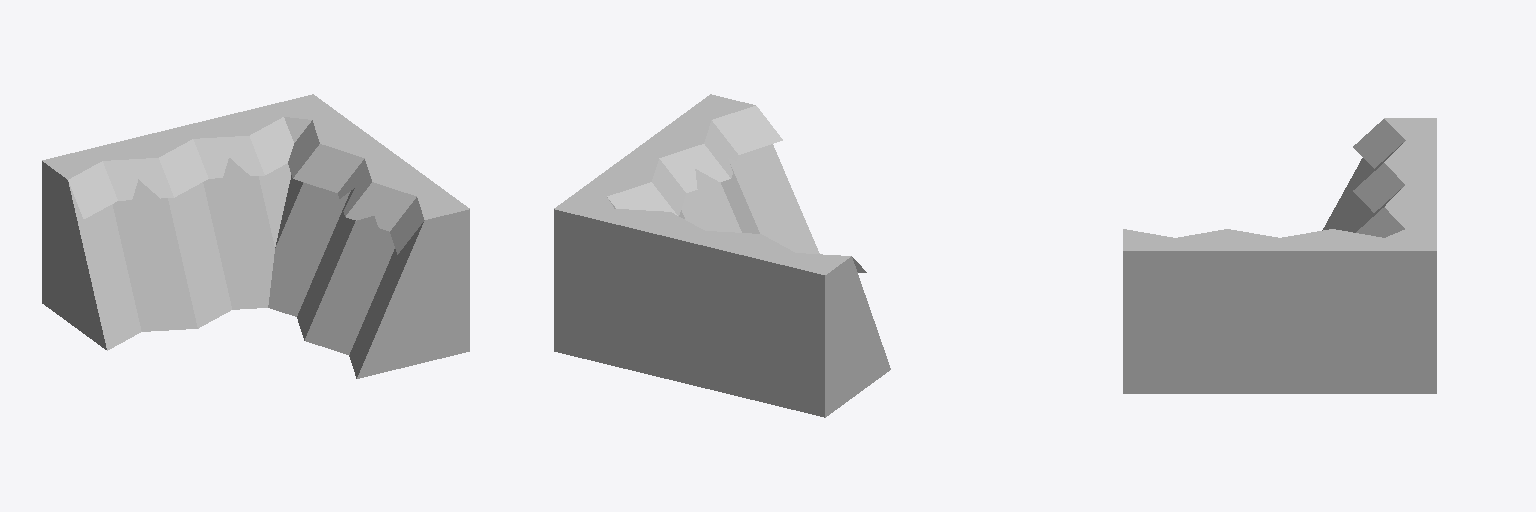
Rendered from cliff_halfCornerInner_rock.obj.
3 views of the same model, side by side, from view 1: azimuth 30°, elevation 25°; view 2: azimuth 150°, elevation 25°; view 3: azimuth 270°, elevation 25° (orthographic).
Parts seen in each view (by area): view 1: cliff_halfCornerInner_rock; view 2: cliff_halfCornerInner_rock; view 3: cliff_halfCornerInner_rock.
Boxes of the visible parts, box(x1,y1,x2,y2) form: cliff_halfCornerInner_rock: box(42, 94, 469, 378); cliff_halfCornerInner_rock: box(554, 94, 890, 417); cliff_halfCornerInner_rock: box(1123, 118, 1436, 393).
Bounding box in the file's own units: 1 × 0.5 × 1.